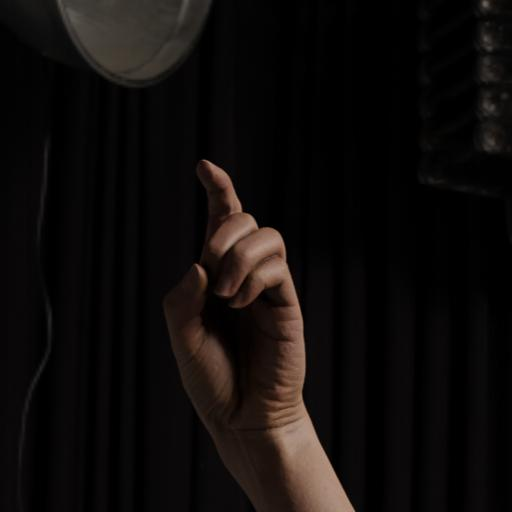X: (154, 155, 310, 429)
